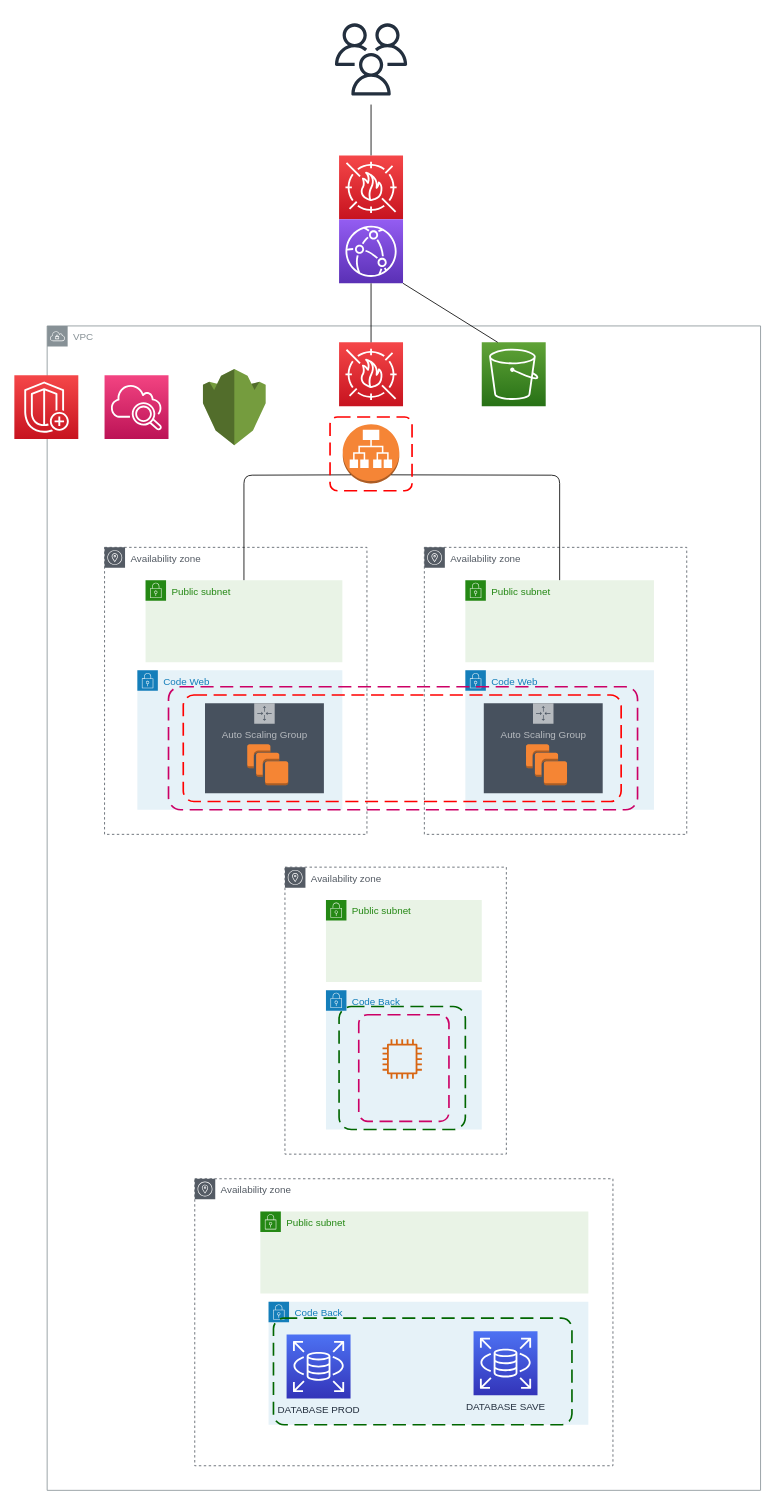
This 775x1505 diagram has some shape labels left out. Each missing label, with the box of its shape:
Back python: (382, 1039, 421, 1078)
Elastic Load Balancer: (342, 424, 399, 483)
